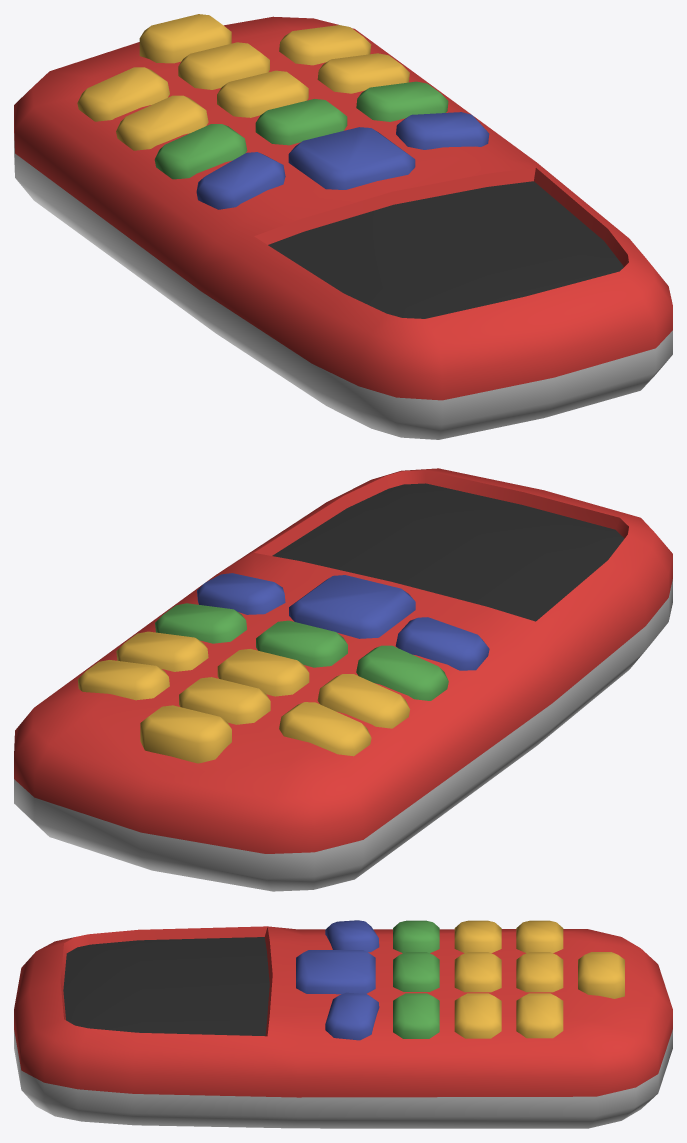
File: Phone_01.fbx
The picture shows the model from 3 angles, top to bottom: view 1: azimuth 30°, elevation 25°; view 2: azimuth 150°, elevation 25°; view 3: azimuth 270°, elevation 25°; orthographic projection. The views are drawn at different scales.
Visible parts, largest first — view 1: Phone_01; view 2: Phone_01; view 3: Phone_01.
Boxes of the visible parts, bbox=[...] form: Phone_01: bbox=[14, 14, 672, 439]; Phone_01: bbox=[14, 468, 672, 891]; Phone_01: bbox=[14, 920, 672, 1128].
Size of the model in its own units: 0.0818 by 0.0333 by 0.1661.
